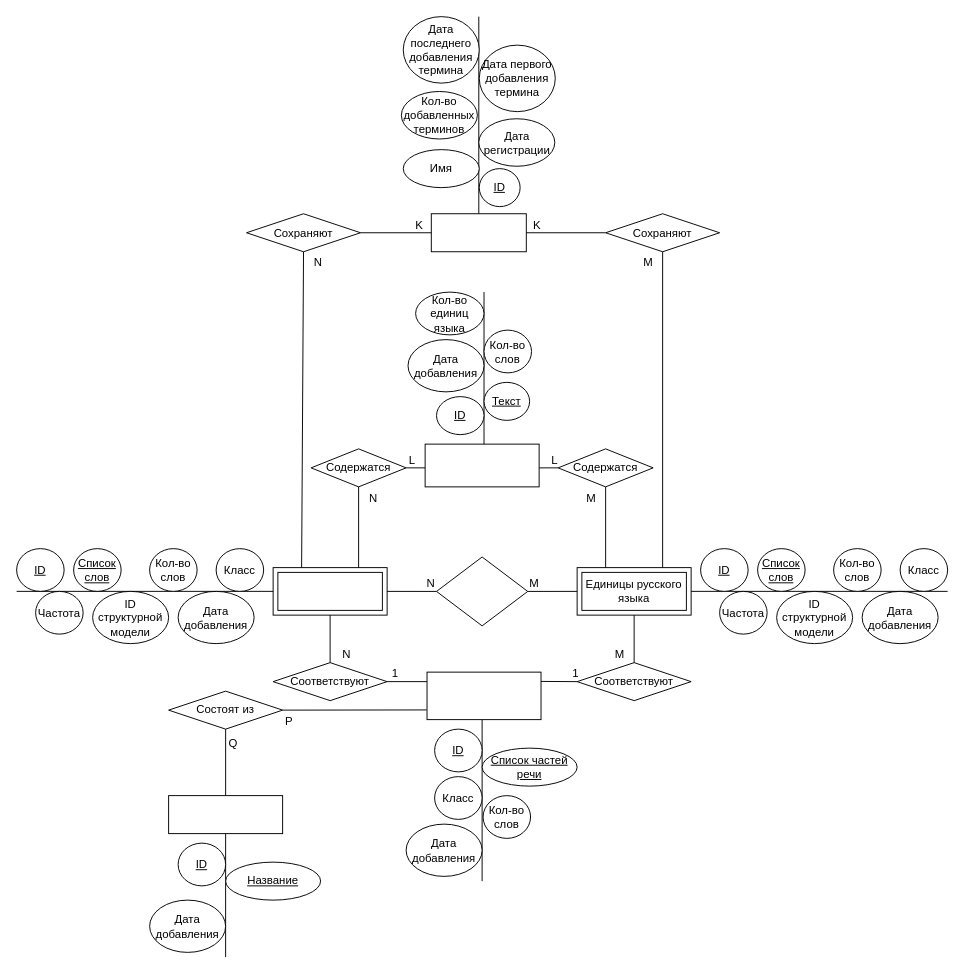
The diagram is 964 pixels wide and 974 high, and some of its shapes have lost their labels. The shapes that lost their labels are listed below. From the top down, each one's box as (x1, y1, x2, y2) in pixels, then its label:
(430, 213, 526, 252): Пользователи
(424, 443, 539, 487): Контексты
(272, 567, 387, 615): Единицы английского языка
(436, 556, 528, 626): Являются переводами
(426, 671, 541, 720): Структурные модели терминов
(168, 795, 283, 834): Части речи
